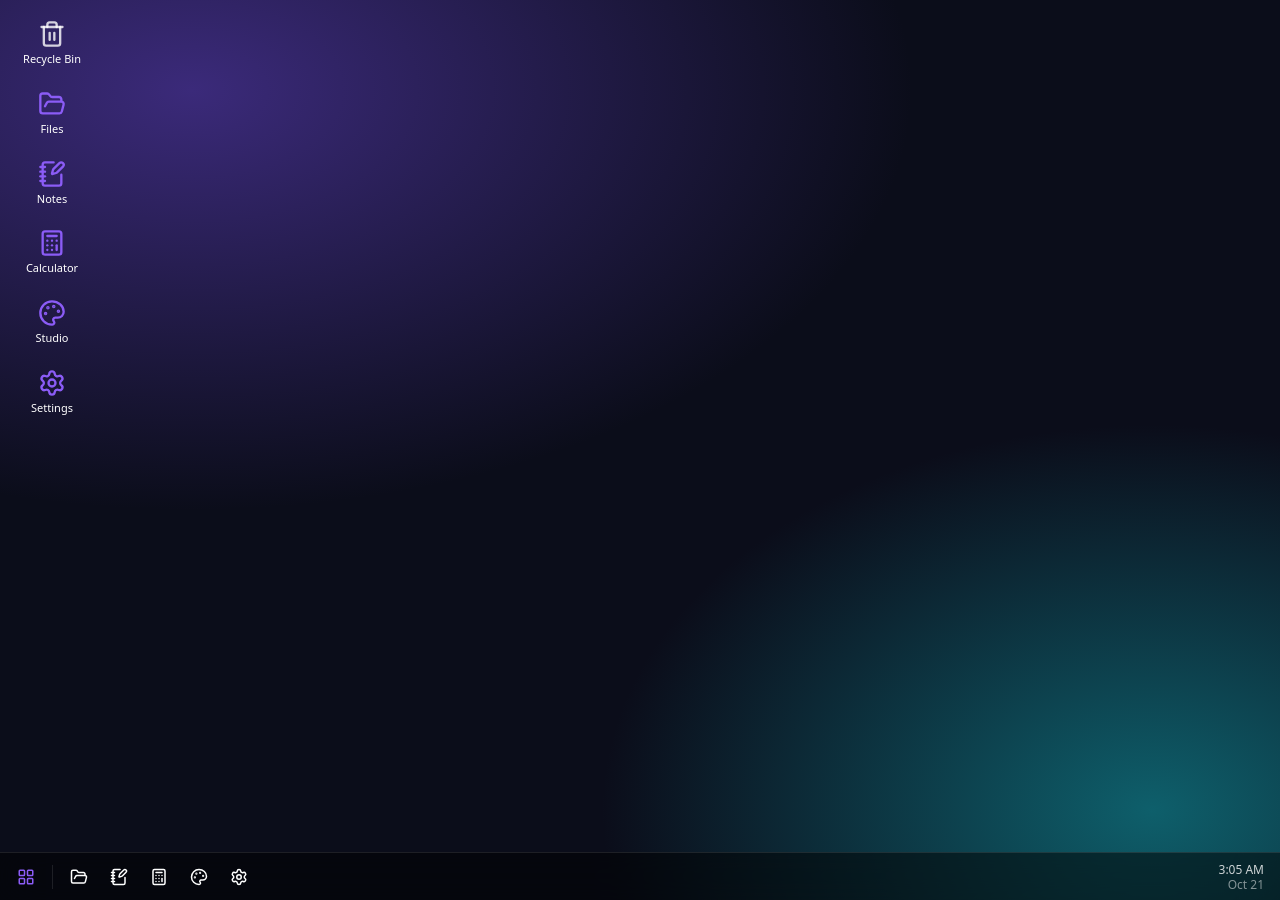
it: Nova Studio on the shell › is pinned to the taskbar and the desktop by default, and opens
The image size is (1280, 900).
Check: the button named "Nova Studio shortcut" is shown, box [12, 291, 92, 353]
Click the button named "Open Nova Studio" at (199, 876), box [181, 858, 217, 894]
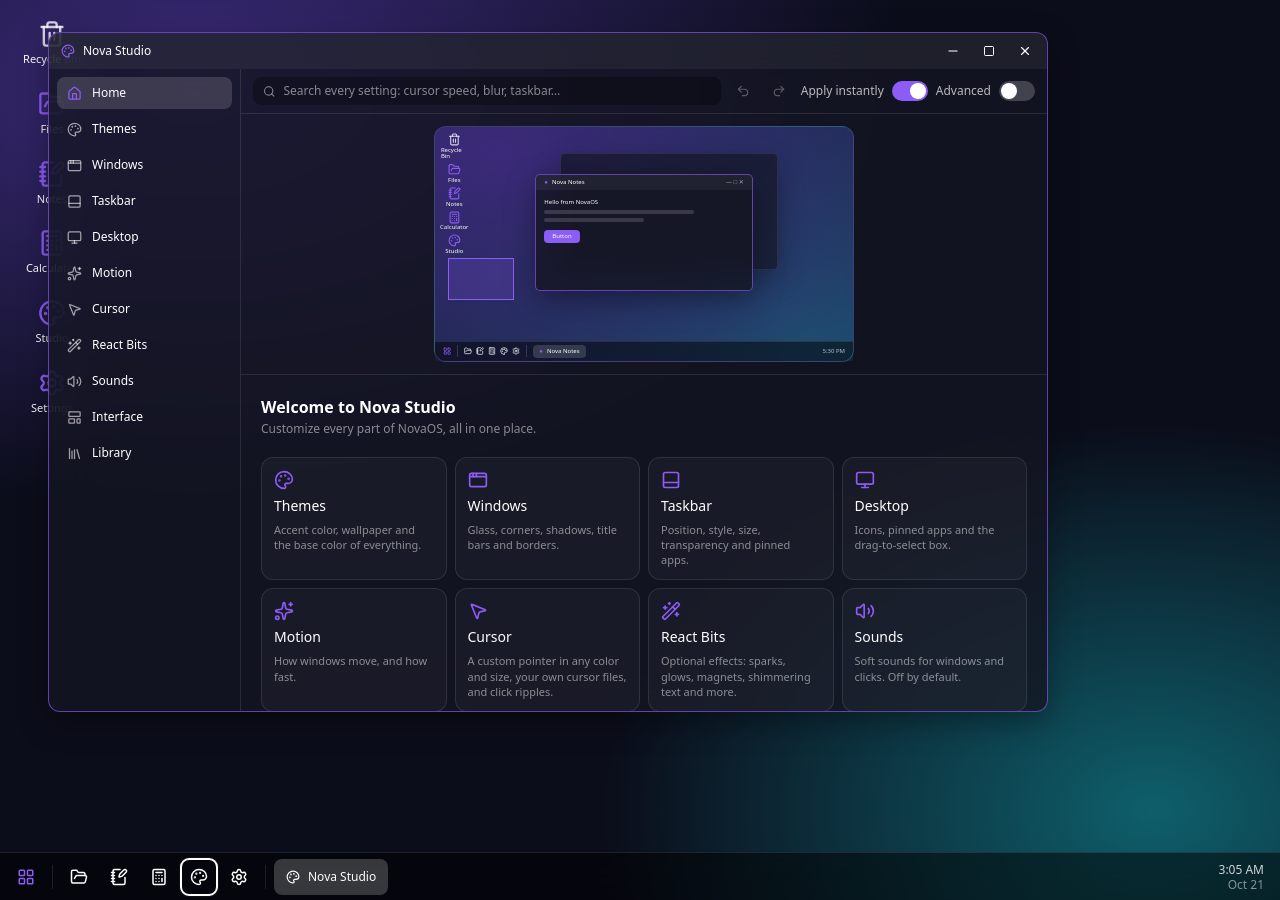
Check: the element with test id "studio" is shown, box [49, 69, 1047, 711]
